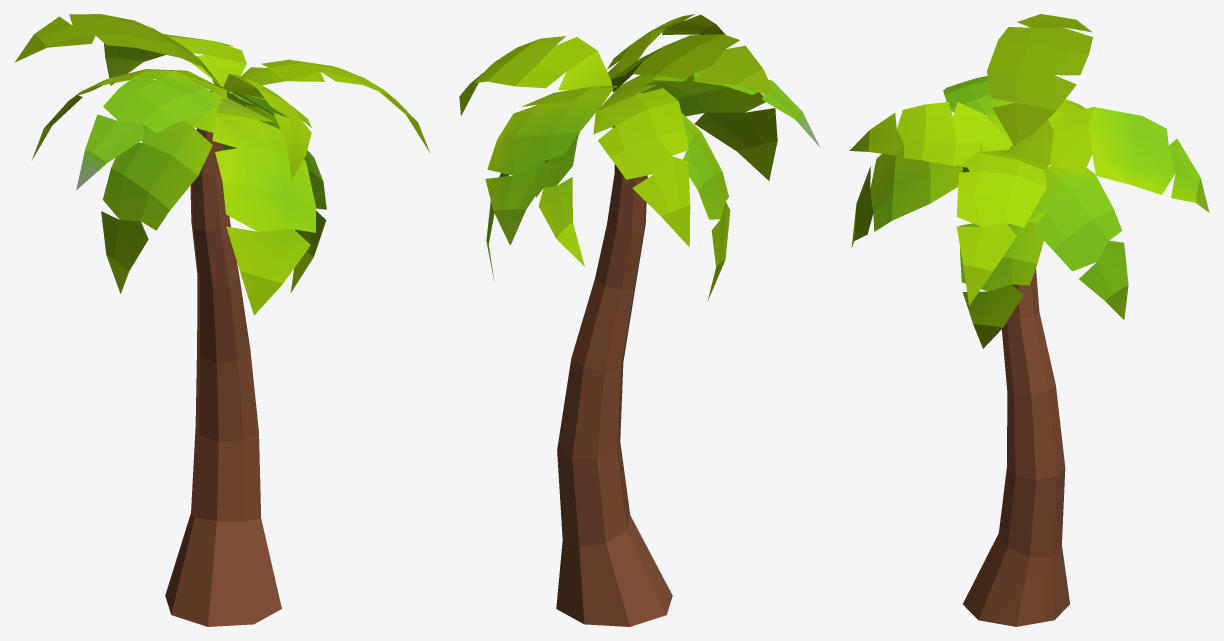
The model's file is palmtree.fbx.
3 views of the same model, side by side, from view 1: azimuth 30°, elevation 25°; view 2: azimuth 150°, elevation 25°; view 3: azimuth 270°, elevation 25° (orthographic). The views are drawn at different scales.
Visible parts, largest first — view 1: palm; view 2: palm; view 3: palm.
Boxes of the visible parts, x1,y1,x2,y2 form: palm: (14, 14, 430, 626); palm: (459, 14, 820, 626); palm: (849, 14, 1209, 626).
Size of the model in its own units: 4.74 by 7.3 by 4.54.
